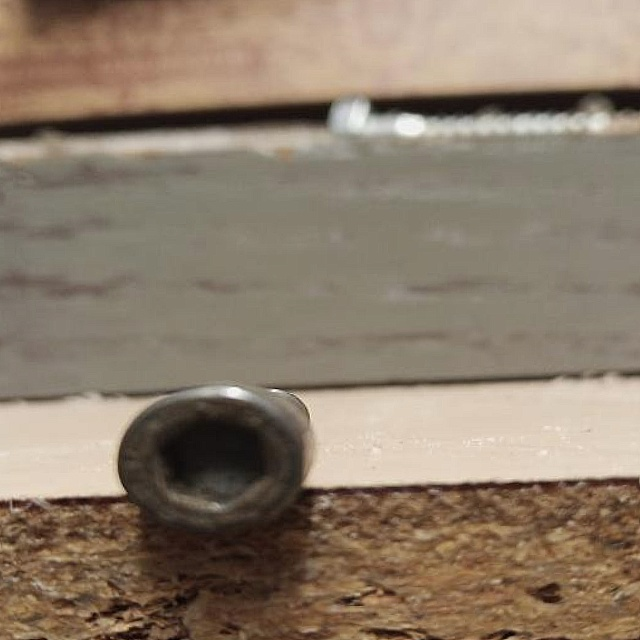allen: (115, 388, 315, 540)
